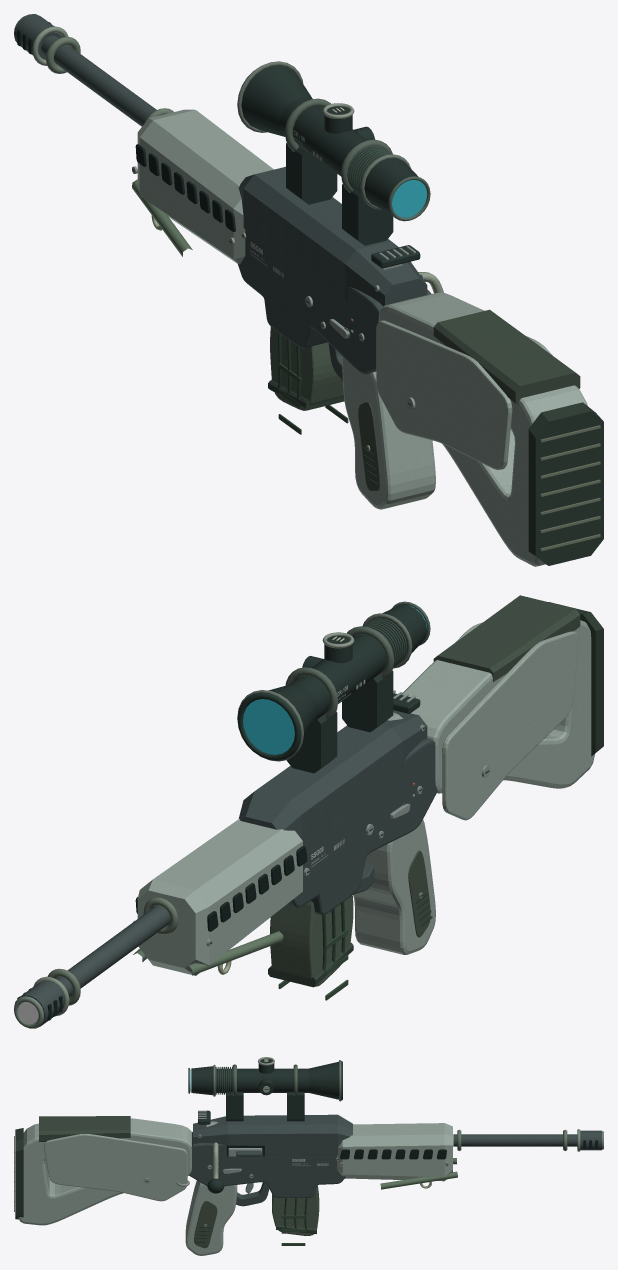
Rendered from ssg08.glb.
3 renders of one model, top to bottom at view 1: azimuth 30°, elevation 25°; view 2: azimuth 150°, elevation 25°; view 3: azimuth 270°, elevation 25°, orthographic. The views are drawn at different scales.
Visible parts, largest first — view 1: ssg08, magazine; view 2: ssg08, magazine; view 3: ssg08, magazine, chargingHandle, bolt.
Boxes of the visible parts, bbox=[...] form: ssg08: bbox=[14, 14, 603, 566]; magazine: bbox=[268, 326, 348, 434]; ssg08: bbox=[14, 595, 603, 1028]; magazine: bbox=[268, 895, 353, 1000]; ssg08: bbox=[14, 1057, 603, 1255]; magazine: bbox=[272, 1185, 319, 1245]; chargingHandle: bbox=[207, 1142, 224, 1193]; bolt: bbox=[228, 1148, 262, 1156].
Bounding box in the file's own units: 0.2596 × 0.6167 × 1.74.
40 materials, 19 textured.
